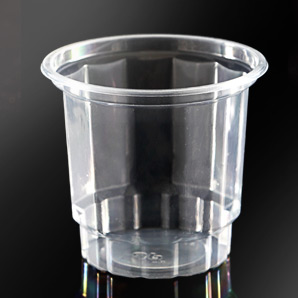plastic_glass: (31, 23, 280, 282)
